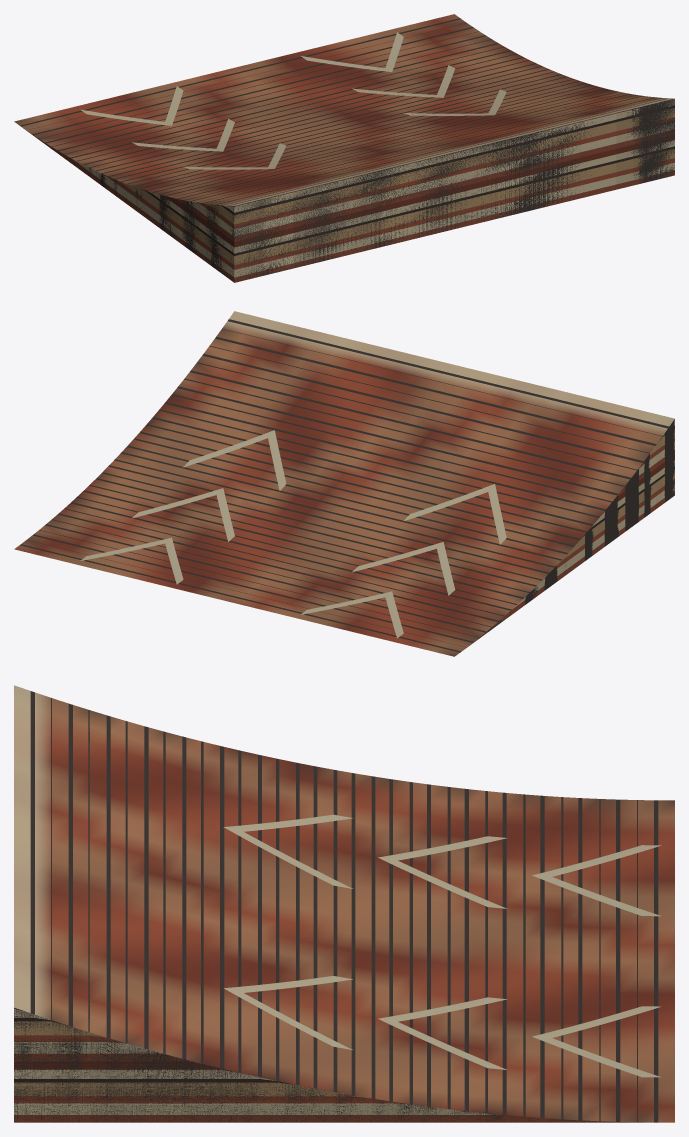
File: mesa_lip_kicker_26x5x30.glb
3 views of the same model, one above another, from view 1: azimuth 30°, elevation 25°; view 2: azimuth 150°, elevation 25°; view 3: azimuth 270°, elevation 25° (orthographic). The views are drawn at different scales.
Visible parts, largest first — view 1: mesa_lip_kicker_26x5x30, mesa_lip_kicker_26x5x30-col; view 2: mesa_lip_kicker_26x5x30, mesa_lip_kicker_26x5x30-col; view 3: mesa_lip_kicker_26x5x30, mesa_lip_kicker_26x5x30-col.
Boxes of the visible parts, x1=… form: mesa_lip_kicker_26x5x30: x1=14, y1=14, x2=674, y2=282; mesa_lip_kicker_26x5x30-col: x1=20, y1=18, x2=674, y2=282; mesa_lip_kicker_26x5x30: x1=14, y1=311, x2=674, y2=656; mesa_lip_kicker_26x5x30-col: x1=20, y1=319, x2=674, y2=652; mesa_lip_kicker_26x5x30: x1=14, y1=685, x2=674, y2=1122; mesa_lip_kicker_26x5x30-col: x1=14, y1=691, x2=658, y2=1122.
Bounding box in the file's own units: 30 × 5 × 26.
